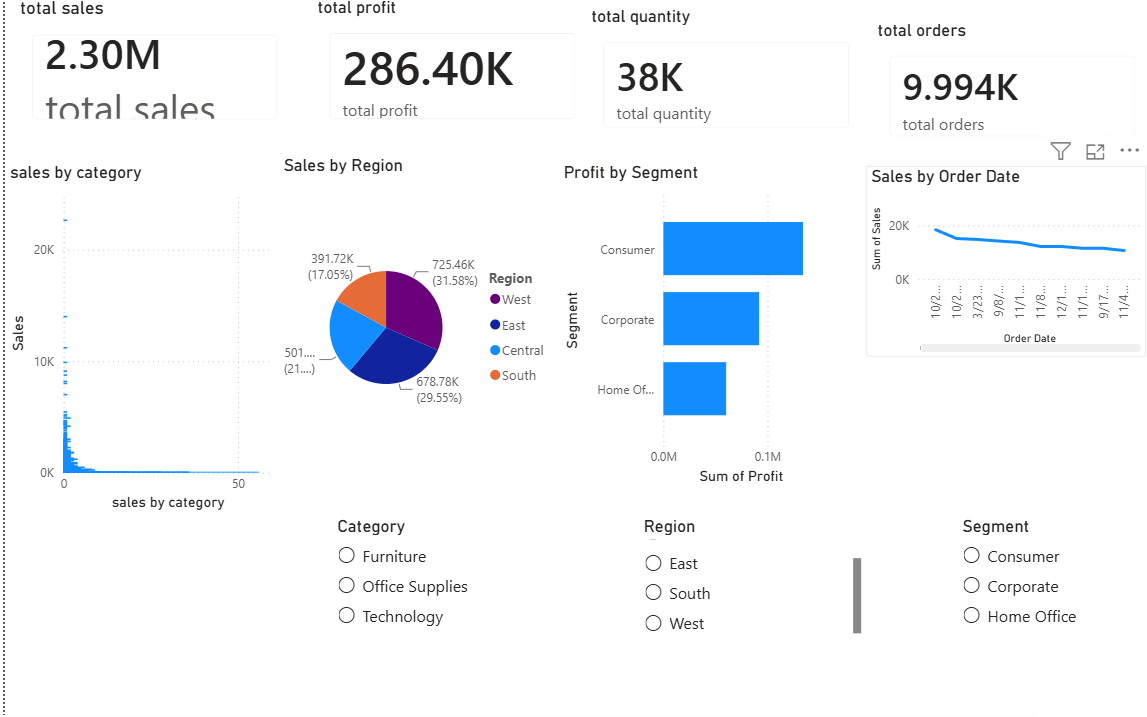

This screenshot's page, from the dashboard's own definition file:
{"tool":"powerbi","page":{"name":"Page 1","canvas":[1280,720],"ordinal":0},"visuals":[{"type":"cardVisual","title":"total sales","fields":{"Data":["Sum(Sample - Superstore.Sales)"]},"box":[10,0,280,140],"z":0},{"type":"cardVisual","title":"total  profit","fields":{"Data":["Sum(Sample - Superstore.Profit)"]},"box":[307.3,0,280,140],"z":1},{"type":"cardVisual","title":"total quantity","fields":{"Data":["Sum(Sample - Superstore.Quantity)"]},"box":[580.9,8.2,280,140],"z":2},{"type":"cardVisual","title":"total orders","fields":{"Data":["CountNonNull(Sample - Superstore.Order ID)"]},"box":[867.3,22.7,280,134.5],"z":3},{"type":"clusteredBarChart","title":"sales by category ","fields":{"Y":["CountNonNull(Sample - Superstore.Category)"],"Category":["Sample - Superstore.Sales"]},"box":[0,164.5,280,353.6],"z":4},{"type":"pieChart","title":" Sales by Region","fields":{"Category":["Sample - Superstore.Region"],"Y":["Sum(Sample - Superstore.Sales)"]},"box":[273.6,157.3,280,327.3],"z":5},{"type":"clusteredBarChart","title":" Profit by Segment","fields":{"Y":["Sum(Sample - Superstore.Profit)"],"Category":["Sample - Superstore.Segment"]},"box":[553.6,164.5,280,327.3],"z":6},{"type":"listSlicer","fields":{"Values":["Sample - Superstore.Region"]},"box":[634.3,518.6,227.1,124.3],"z":7},{"type":"listSlicer","fields":{"Values":["Sample - Superstore.Category"]},"box":[327.1,518.6,280,191.4],"z":8},{"type":"listSlicer","fields":{"Values":["Sample - Superstore.Segment"]},"box":[952.9,518.6,280,191.4],"z":9},{"type":"lineChart","title":"Sales by month","fields":{"Category":["Sample - Superstore.Order Date"],"Y":["Sum(Sample - Superstore.Sales)"]},"box":[861.4,168.6,280,191.4],"z":10}]}

Visuals, with their boxes on the page's 1280x720 design canvas (x1, y1, x2, y2). These are canvas units, not pixel positions in the 1147x717 screenshot, which may show the page scaled, cropped or inside an application window:
"total sales" cardVisual: rect(10, 0, 290, 140)
"total  profit" cardVisual: rect(307, 0, 587, 140)
"total quantity" cardVisual: rect(581, 8, 861, 148)
"total orders" cardVisual: rect(867, 23, 1147, 157)
"sales by category " clusteredBarChart: rect(0, 164, 280, 518)
" Sales by Region" pieChart: rect(274, 157, 554, 485)
" Profit by Segment" clusteredBarChart: rect(554, 164, 834, 492)
listSlicer - Sample - Superstore.Region: rect(634, 519, 861, 643)
listSlicer - Sample - Superstore.Category: rect(327, 519, 607, 710)
listSlicer - Sample - Superstore.Segment: rect(953, 519, 1233, 710)
"Sales by month" lineChart: rect(861, 169, 1141, 360)
